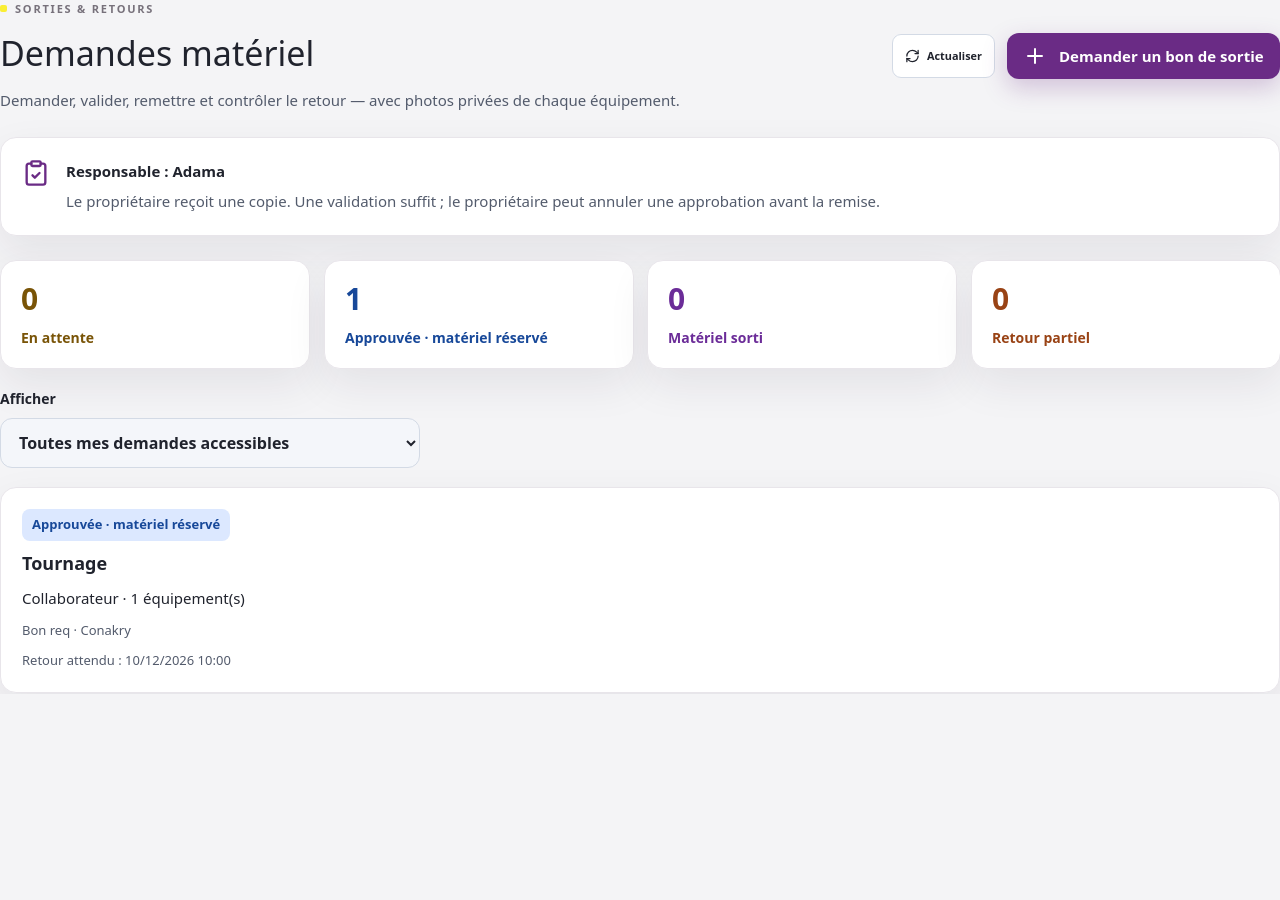
Test case: bons de matériel › refuse de confirmer une sortie sans photo
The width and height of the screenshot is (1280, 900).
Click the text "Tournage".
click(64, 563)  # box [22, 551, 107, 576]
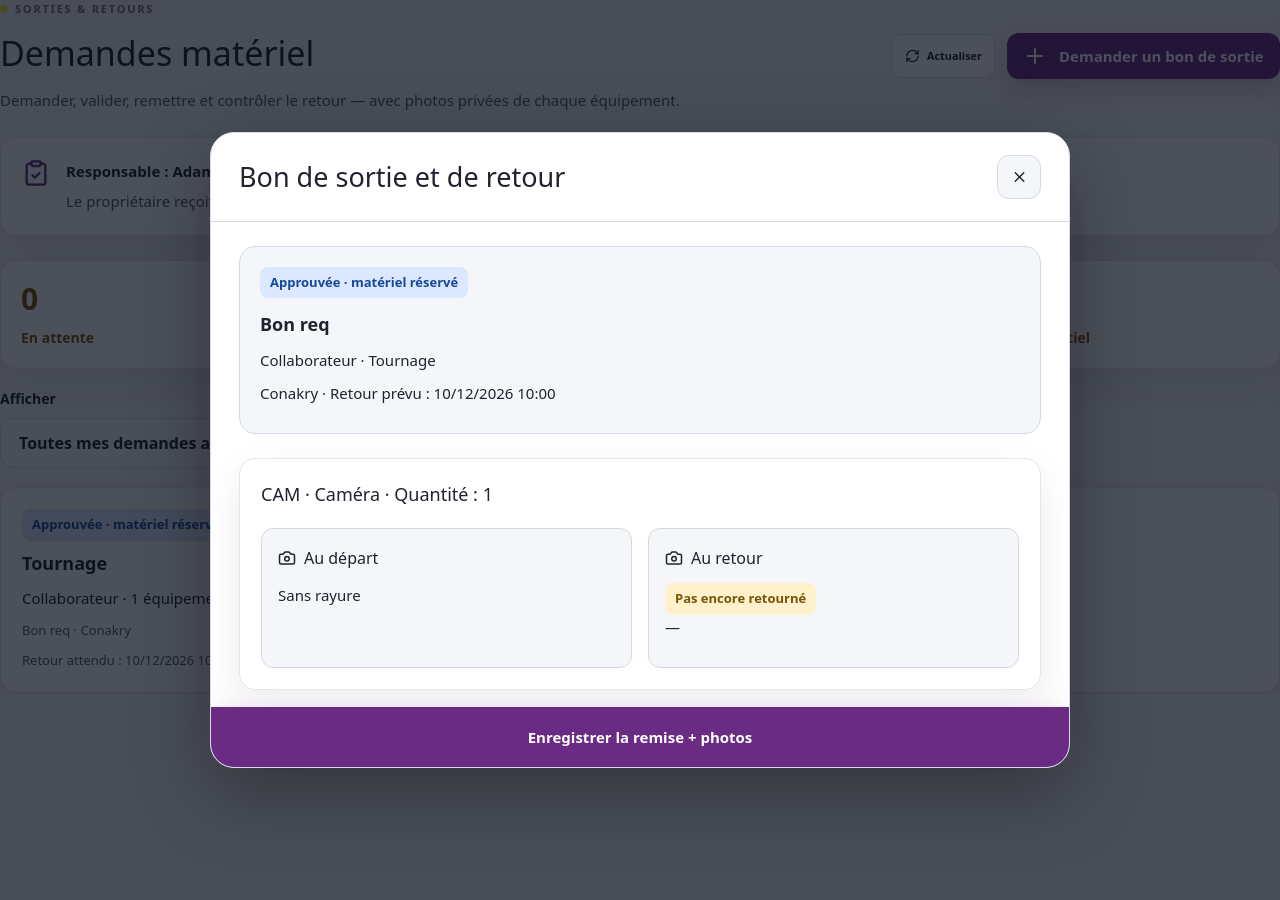
Click the button "Enregistrer la remise + photos".
click(640, 737)  # box [211, 707, 1069, 767]
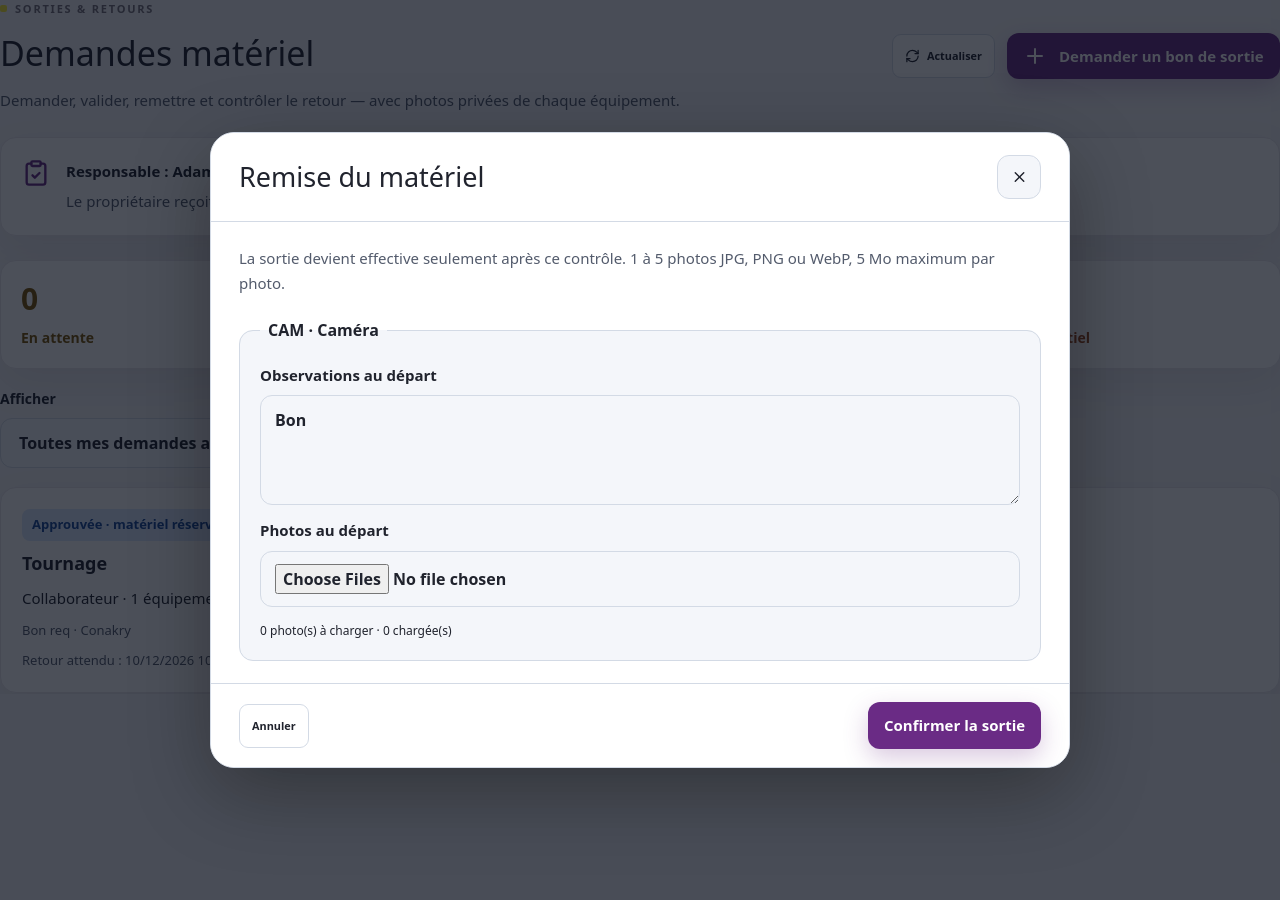
Click the button "Confirmer la sortie".
click(954, 726)  # box [868, 702, 1041, 749]
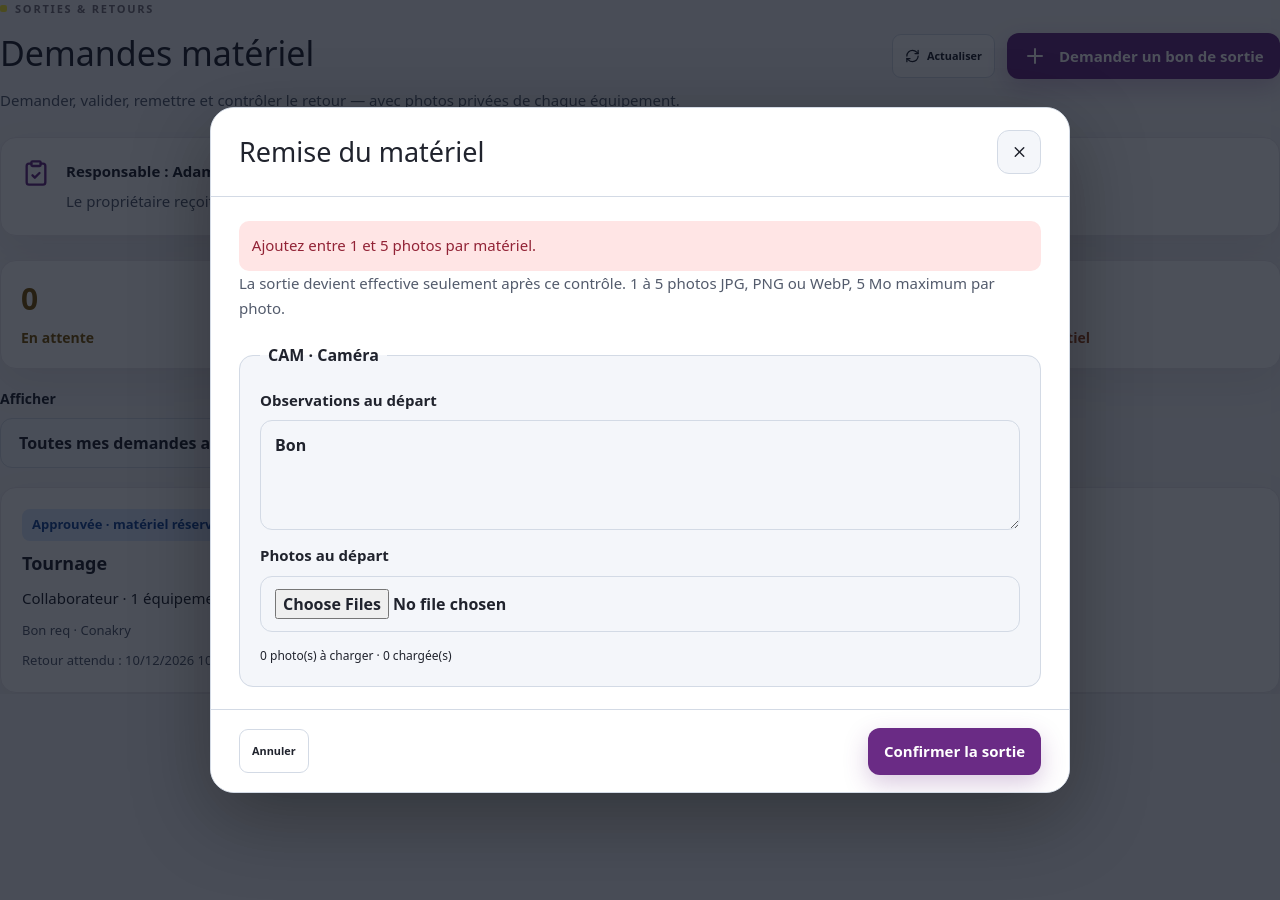
Now the text "Ajoutez entre 1 et 5 photos par matériel." is shown, box [239, 221, 1041, 271]
